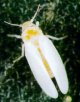whitefly: (4, 4, 69, 99)
